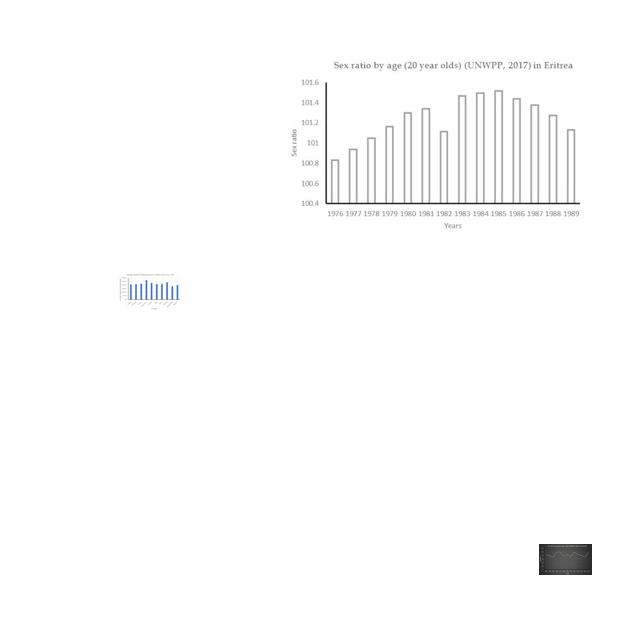Graph: (281, 58, 585, 233), (119, 273, 181, 310), (539, 544, 592, 575)
